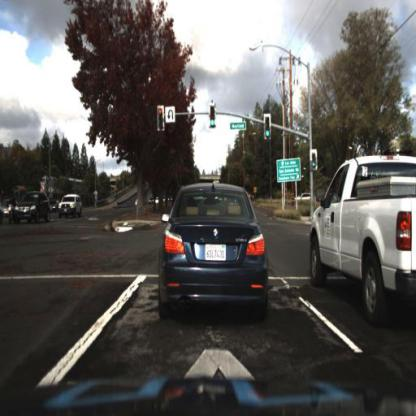biker: (8, 191, 18, 222)
car: (304, 152, 415, 314), (159, 180, 270, 315), (11, 190, 49, 226), (59, 192, 83, 219), (296, 192, 319, 208), (50, 201, 63, 215)
trafficLight-Green: (263, 111, 274, 142), (208, 102, 219, 130), (310, 147, 320, 176), (310, 148, 318, 169)
trafficLight-RedLeft: (153, 103, 164, 137), (158, 103, 166, 129)
